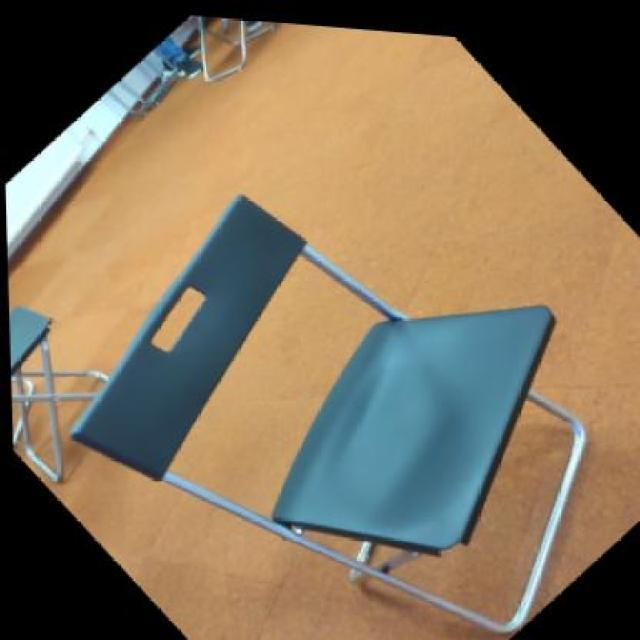chair: (0, 58, 638, 638), (5, 218, 160, 500)
